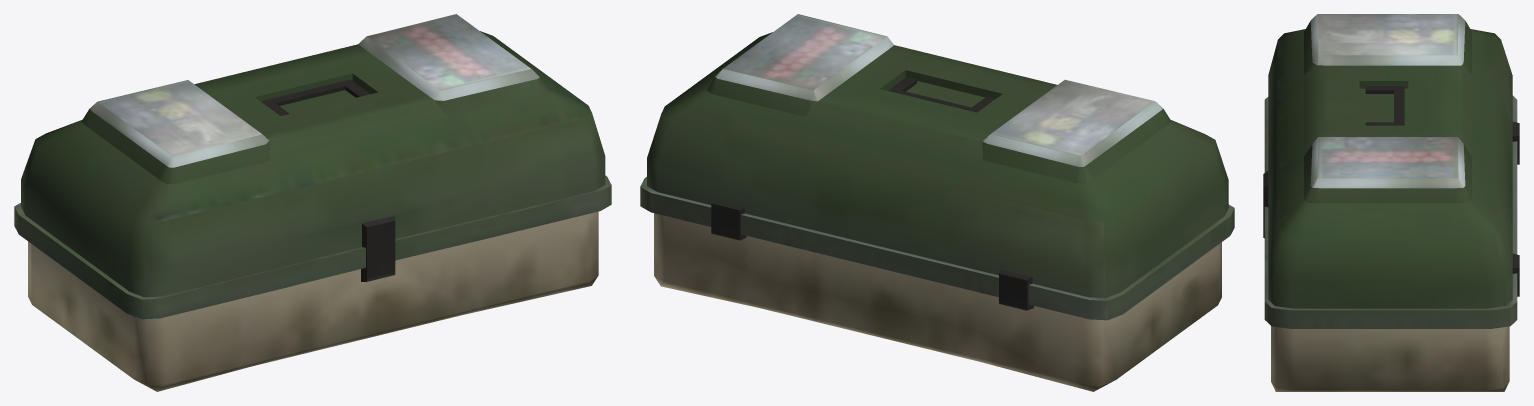
Rendered from cove-tackle-box.lod0.glb.
3 renders of one model, left to right at view 1: azimuth 30°, elevation 25°; view 2: azimuth 150°, elevation 25°; view 3: azimuth 270°, elevation 25°, orthographic. The views are drawn at different scales.
Visible parts, largest first — view 1: Object_6; view 2: Object_6; view 3: Object_6.
Part boxes in pixels (bbox=[...]): Object_6: bbox=[14, 14, 611, 391]; Object_6: bbox=[640, 14, 1234, 391]; Object_6: bbox=[1263, 14, 1519, 391].
Bounding box in the file's own units: 0.55 × 0.2349 × 0.2711.
1 material, 1 textured.
